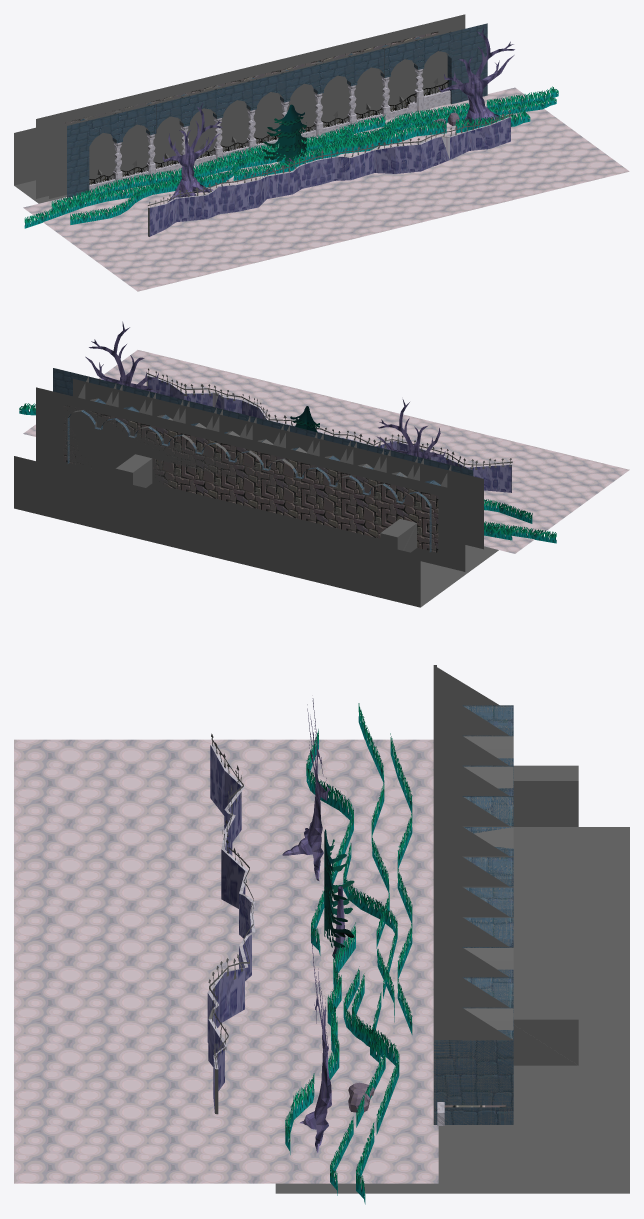
File: jin_02_bake.dae
3 views of the same model, one above another, from view 1: azimuth 30°, elevation 25°; view 2: azimuth 150°, elevation 25°; view 3: azimuth 270°, elevation 25° (orthographic). The views are drawn at different scales.
Parts seen in each view (by area): view 1: pPlane365_q093, a_gawa01, polySurface1010, polySurface972_q079_part0, a_gawa02, polySurface993_q105, polySurface995_q103, polySurface995_q096, polySurface993_q099, polySurface1012, polySurface952_q082, polySurface993_q102 (+9 smaller); view 2: pPlane369, a_gawa02, pPlane365_q093, pPlane366, a_gawa01, polySurface1010, polySurface972_q079_part0, polySurface972_q079_part1, polySurface952_q082, polySurface952_q092, bero_part0, polySurface995_q096 (+2 smaller); view 3: pPlane365_q093, pPlane369, a_gawa01, polySurface1010, bero_part0, polySurface972_q079_part0, polySurface993_q105, polySurface993_q102, polySurface993_q106, polySurface995_q103, polySurface993_q099, polySurface995_q096 (+7 smaller).
Part boxes in pixels (bbox=[...]): pPlane365_q093: bbox=[23, 87, 629, 291]; a_gawa01: bbox=[49, 28, 459, 198]; polySurface1010: bbox=[67, 23, 487, 197]; polySurface972_q079_part0: bbox=[149, 117, 510, 236]; a_gawa02: bbox=[36, 14, 465, 198]; polySurface993_q105: bbox=[279, 109, 530, 165]; polySurface995_q103: bbox=[51, 115, 385, 211]; polySurface995_q096: bbox=[24, 128, 354, 228]; polySurface993_q099: bbox=[70, 156, 304, 224]; polySurface1012: bbox=[89, 90, 450, 191]; polySurface952_q082: bbox=[438, 25, 514, 127]; polySurface993_q102: bbox=[323, 86, 558, 147]; pPlane369: bbox=[14, 456, 498, 607]; a_gawa02: bbox=[36, 387, 465, 571]; pPlane365_q093: bbox=[23, 350, 629, 553]; pPlane366: bbox=[63, 406, 438, 552]; a_gawa01: bbox=[67, 377, 483, 551]; polySurface1010: bbox=[53, 368, 473, 552]; polySurface972_q079_part0: bbox=[148, 376, 511, 492]; polySurface972_q079_part1: bbox=[146, 368, 512, 492]; polySurface952_q082: bbox=[85, 321, 160, 393]; polySurface952_q092: bbox=[376, 399, 445, 458]; bero_part0: bbox=[115, 463, 416, 548]; polySurface995_q096: bbox=[484, 521, 556, 543]; pPlane365_q093: bbox=[14, 739, 438, 1183]; pPlane369: bbox=[275, 827, 629, 1193]; a_gawa01: bbox=[433, 665, 513, 1124]; polySurface1010: bbox=[434, 705, 513, 1124]; bero_part0: bbox=[513, 765, 578, 1065]; polySurface972_q079_part0: bbox=[207, 745, 251, 1112]; polySurface993_q105: bbox=[285, 922, 355, 1154]; polySurface993_q102: bbox=[352, 973, 399, 1204]; polySurface993_q106: bbox=[330, 966, 385, 1195]; polySurface995_q103: bbox=[390, 733, 412, 1034]; polySurface993_q099: bbox=[306, 729, 353, 955]; polySurface995_q096: bbox=[358, 703, 394, 1022].
Bounding box in the file's own units: 158 × 36.64 × 84.94.
